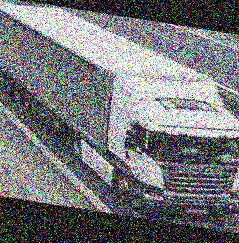truck: (0, 0, 239, 234)
